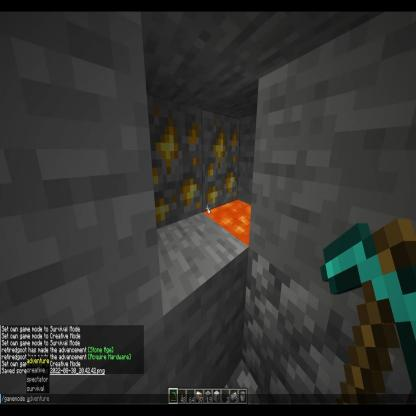gold ore: (146, 95, 202, 241), (200, 102, 244, 213)
